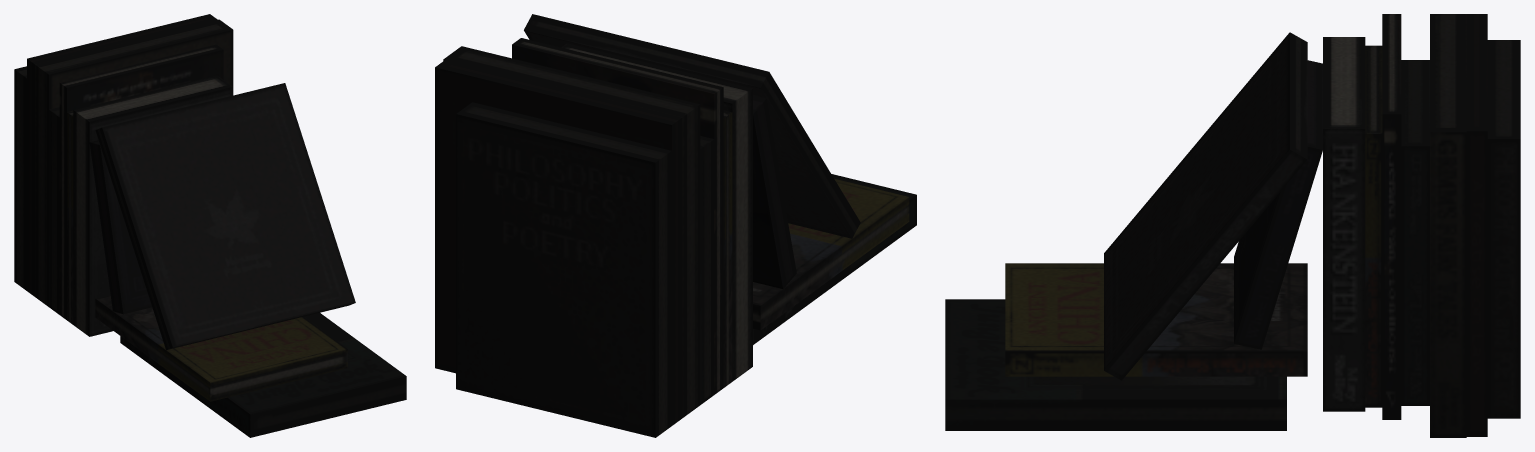
Rendered from accessories_book_row02_paris_lod0.glb.
The picture shows the model from 3 angles, left to right: view 1: azimuth 30°, elevation 25°; view 2: azimuth 150°, elevation 25°; view 3: azimuth 270°, elevation 25°; orthographic projection. The views are drawn at different scales.
Parts seen in each view (by area): view 1: surf0; view 2: surf0; view 3: surf0.
Boxes of the visible parts, box(x1,y1,x2,y2) form: surf0: box(14, 14, 406, 437); surf0: box(435, 14, 916, 437); surf0: box(945, 14, 1520, 437).
Bounding box in the file's own units: 9.97 × 12 × 20.47.
